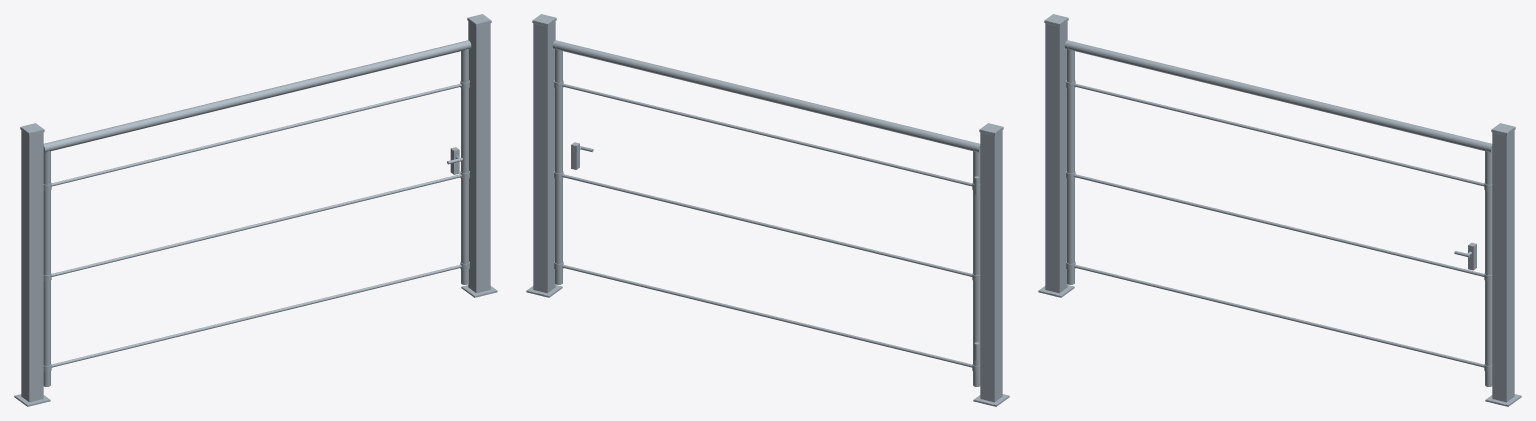
Rendered from 06-jednokrilna.glb.
3 renders of one model, left to right at view 1: azimuth 30°, elevation 25°; view 2: azimuth 150°, elevation 25°; view 3: azimuth 330°, elevation 25°, orthographic.
Parts seen in each view (by area): view 1: Stub_levi.021, Stub_desni.021, Ram_rukohvat.006, Ram_inox_uspravni.012, Ram_inox_uspravni.013, Ispuna_okrugla_precka.024, Ispuna_okrugla_precka.023, Ispuna_okrugla_precka.025; view 2: Stub_levi.021, Stub_desni.021, Ram_rukohvat.006, Ram_inox_uspravni.013, Ram_inox_uspravni.012, Ispuna_okrugla_precka.024, Ispuna_okrugla_precka.023, Ispuna_okrugla_precka.025; view 3: Stub_desni.021, Stub_levi.021, Ram_rukohvat.006, Ram_inox_uspravni.012, Ram_inox_uspravni.013, Ispuna_okrugla_precka.024, Ispuna_okrugla_precka.023, Ispuna_okrugla_precka.025.
Boxes of the visible parts, left/top/right/bottom form: Stub_levi.021: left=21, top=130, right=43, bottom=402; Stub_desni.021: left=468, top=21, right=490, bottom=293; Ram_rukohvat.006: left=43, top=40, right=471, bottom=152; Ram_inox_uspravni.012: left=43, top=151, right=50, bottom=386; Ram_inox_uspravni.013: left=461, top=49, right=468, bottom=284; Ispuna_okrugla_precka.024: left=51, top=174, right=461, bottom=276; Ispuna_okrugla_precka.023: left=51, top=264, right=461, bottom=367; Ispuna_okrugla_precka.025: left=51, top=83, right=461, bottom=186; Stub_levi.021: left=980, top=130, right=1002, bottom=402; Stub_desni.021: left=533, top=21, right=555, bottom=293; Ram_rukohvat.006: left=552, top=40, right=980, bottom=152; Ram_inox_uspravni.013: left=555, top=49, right=562, bottom=284; Ram_inox_uspravni.012: left=973, top=151, right=980, bottom=386; Ispuna_okrugla_precka.024: left=562, top=174, right=972, bottom=276; Ispuna_okrugla_precka.023: left=562, top=264, right=972, bottom=367; Ispuna_okrugla_precka.025: left=562, top=83, right=972, bottom=186; Stub_desni.021: left=1492, top=130, right=1514, bottom=402; Stub_levi.021: left=1045, top=21, right=1067, bottom=293; Ram_rukohvat.006: left=1064, top=40, right=1492, bottom=152; Ram_inox_uspravni.012: left=1067, top=49, right=1074, bottom=284; Ram_inox_uspravni.013: left=1485, top=151, right=1492, bottom=386; Ispuna_okrugla_precka.024: left=1074, top=174, right=1484, bottom=276; Ispuna_okrugla_precka.023: left=1074, top=264, right=1484, bottom=367; Ispuna_okrugla_precka.025: left=1074, top=83, right=1484, bottom=186.
Bounding box in the file's own units: 3.26 × 1.8 × 0.19.
